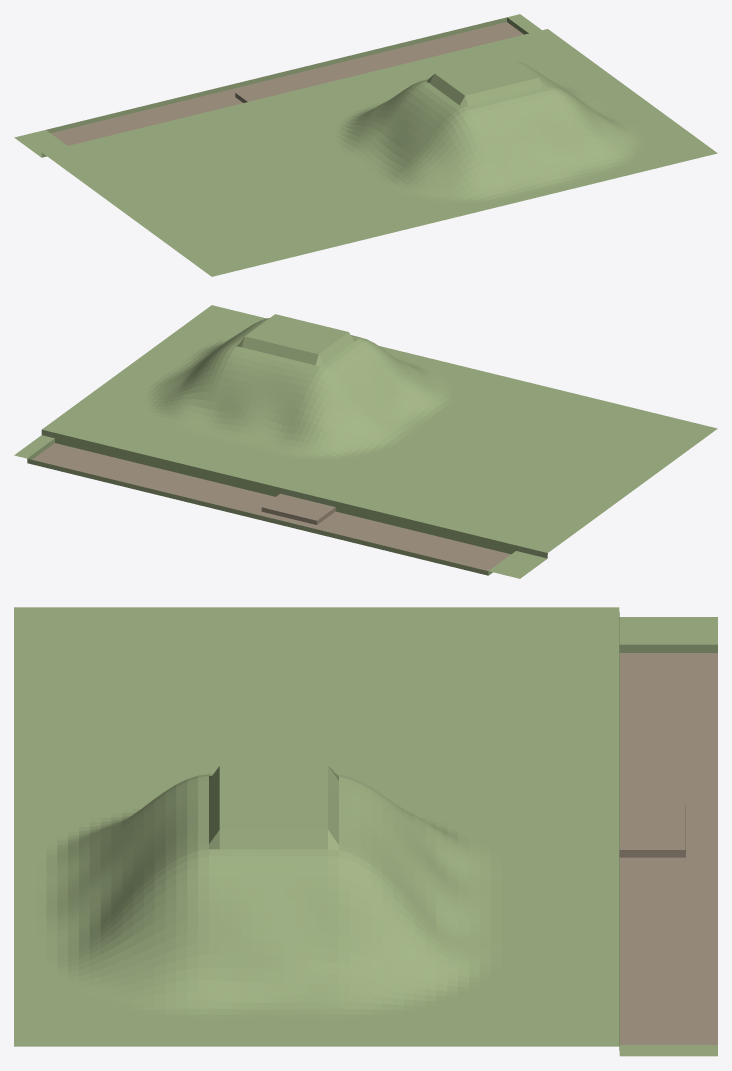
File: HK_Terrain_Castle.glb
3 renders of one model, top to bottom at view 1: azimuth 30°, elevation 25°; view 2: azimuth 150°, elevation 25°; view 3: azimuth 270°, elevation 25°, orthographic. The views are drawn at different scales.
Parts seen in each view (by area): view 1: HK_Terrain_Castle; view 2: HK_Terrain_Castle; view 3: HK_Terrain_Castle.
Boxes of the visible parts, bbox=[...] form: HK_Terrain_Castle: bbox=[14, 14, 717, 276]; HK_Terrain_Castle: bbox=[14, 305, 717, 578]; HK_Terrain_Castle: bbox=[14, 607, 717, 1056].
Size of the model in its own units: 384 by 52.95 by 260.
